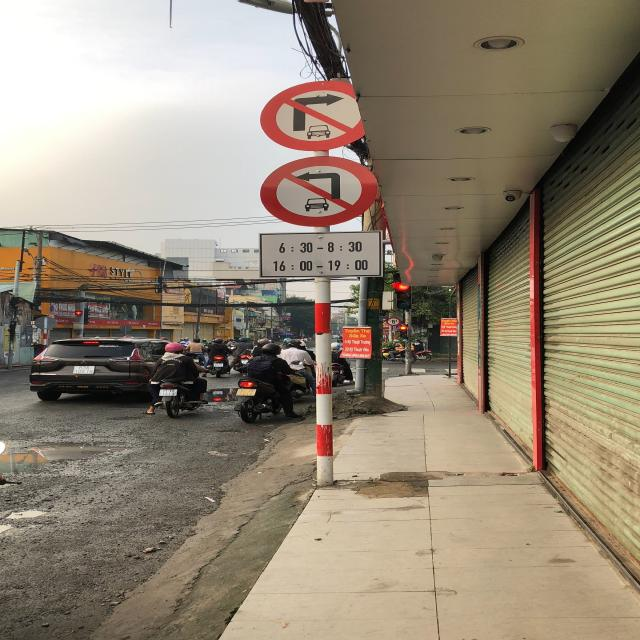Bien bao cam xe o to re phai: (260, 76, 370, 155)
Bien bao cam xe o to re trai: (257, 153, 382, 228)
